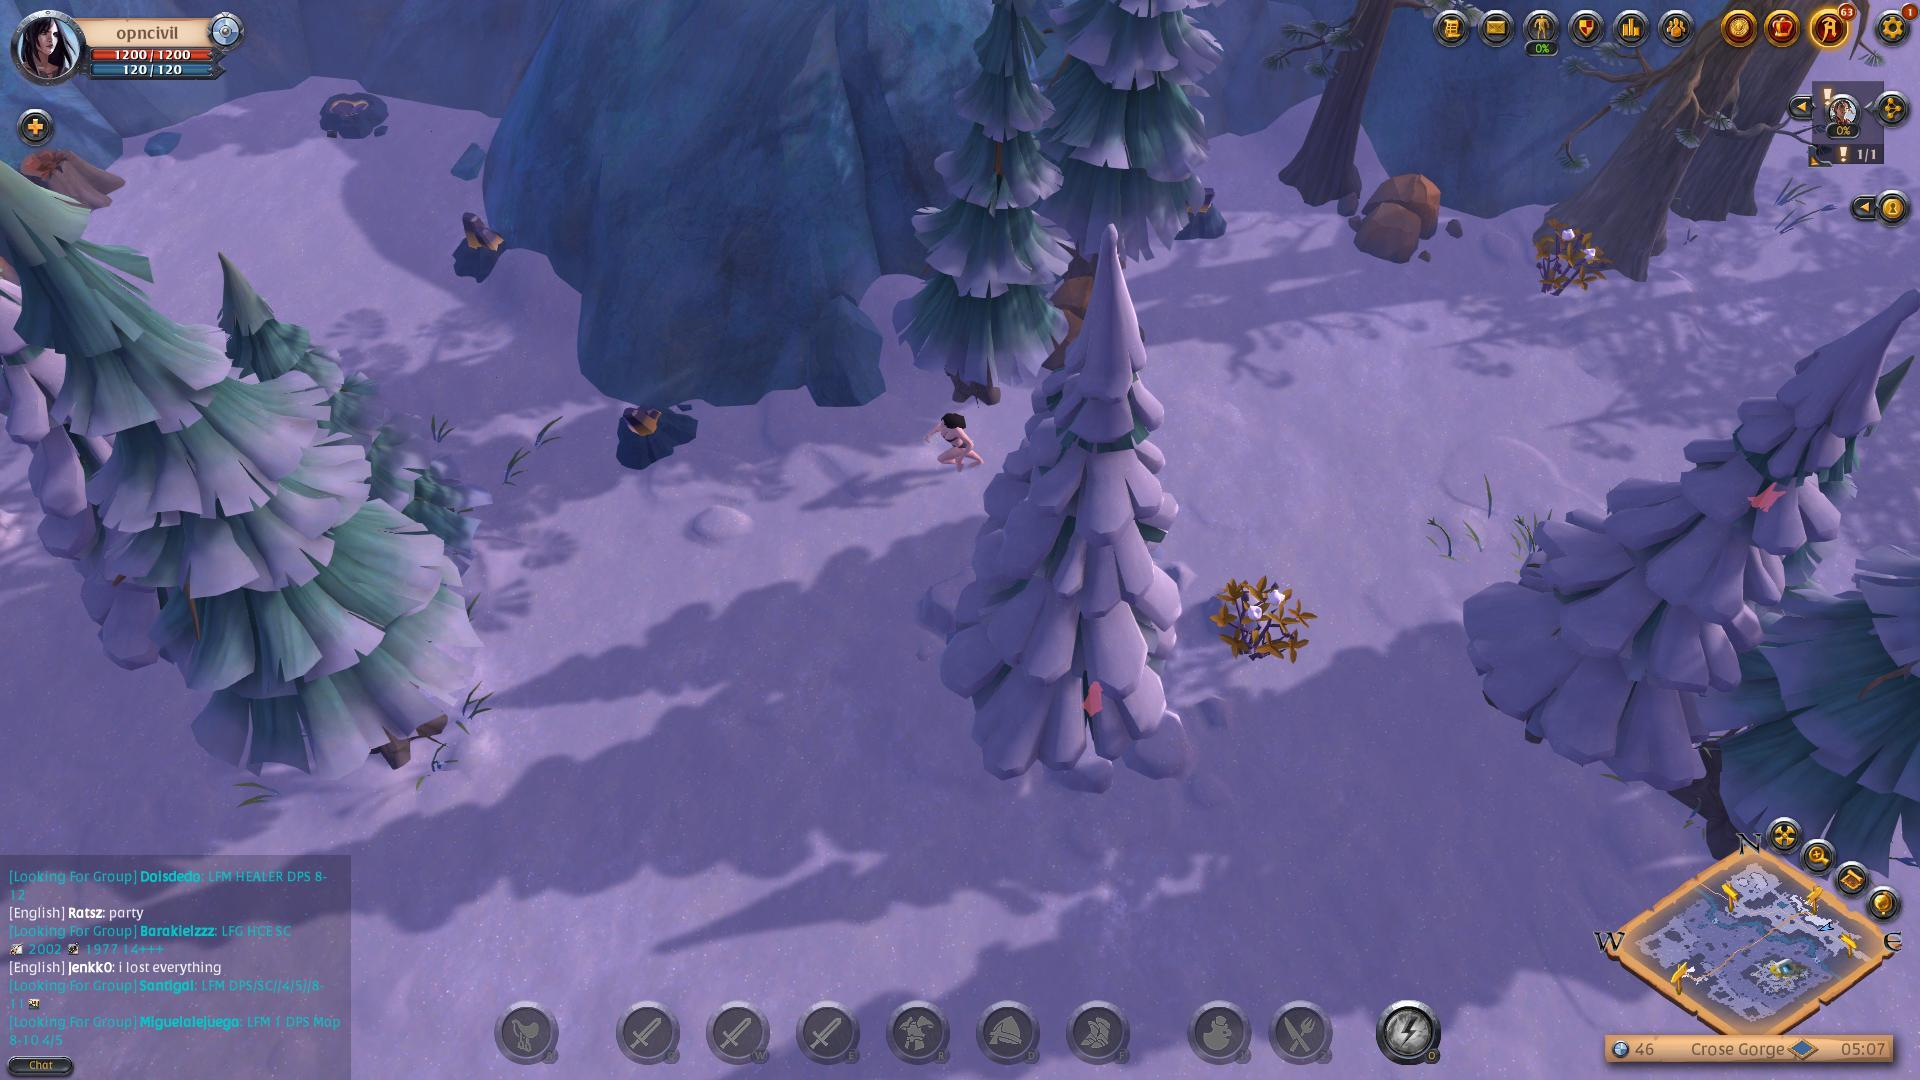copper_ore: (611, 398, 700, 483), (442, 210, 516, 284)
cotton: (1211, 583, 1335, 670), (1531, 212, 1611, 309)
limestone: (1354, 171, 1452, 261)
